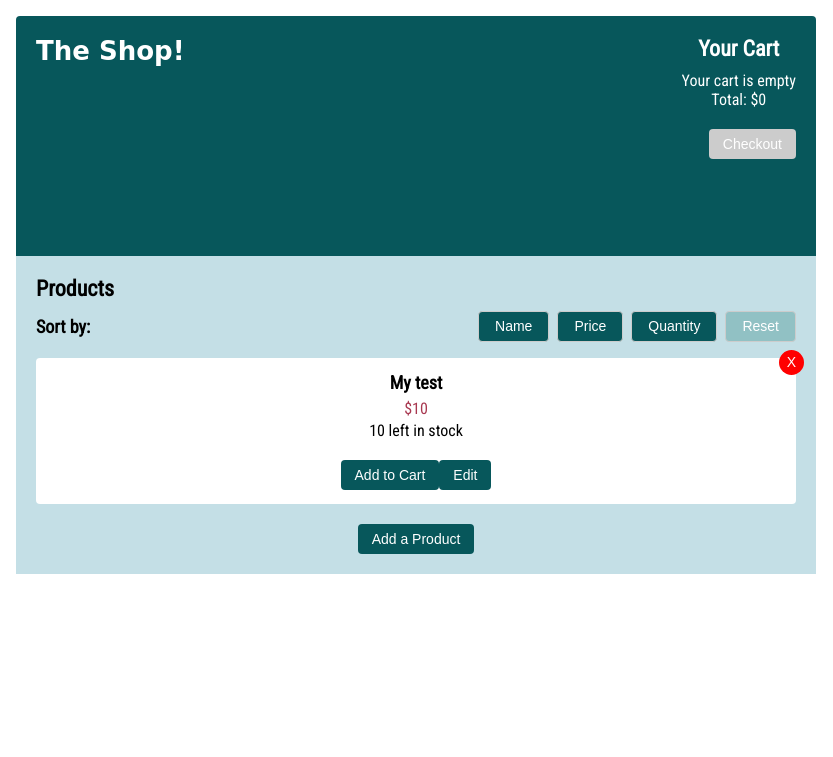
Test: Adding the product closes the form and product appears
Click the button "Add a Product": (416, 539) top-left (358, 524), bottom-right (474, 554)
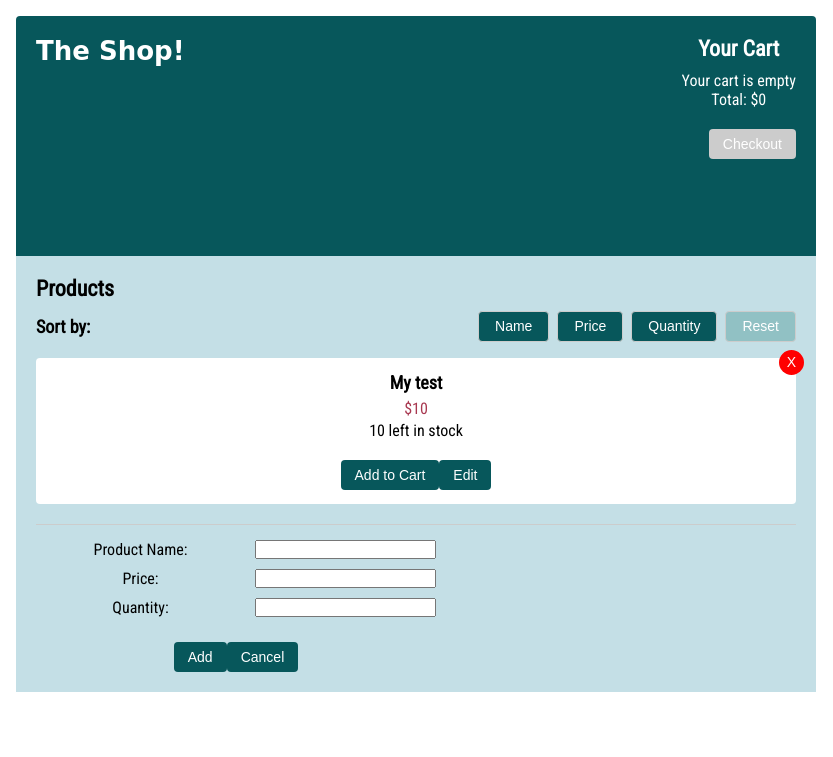
In the field labelled "Product Name:": (346, 549) top-left (255, 540), bottom-right (436, 559), type "My new product test"
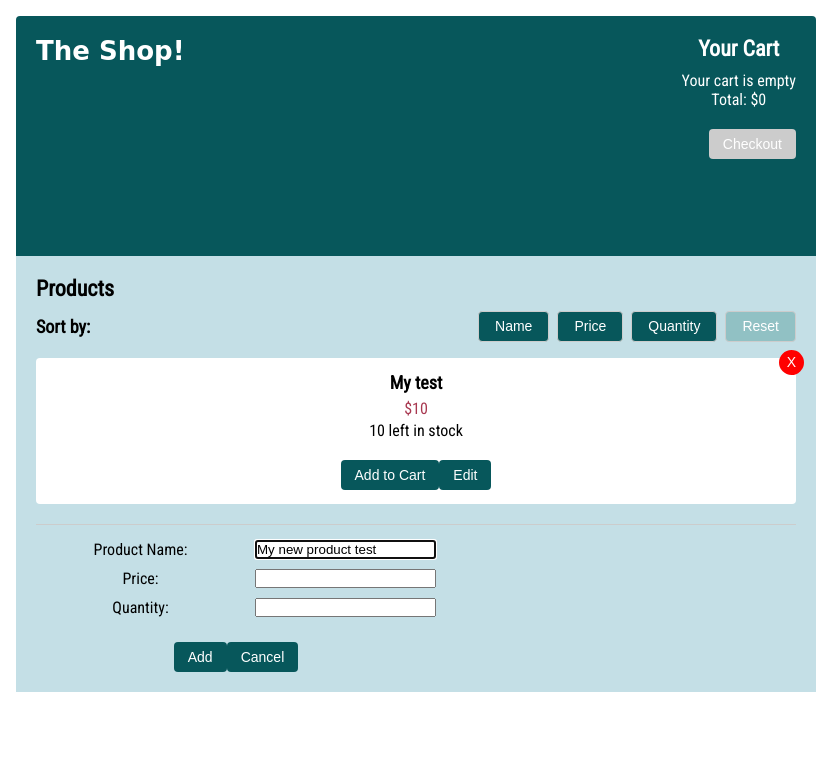
In the number field labelled "Price:": (346, 578) top-left (255, 569), bottom-right (436, 588), type "10.50"
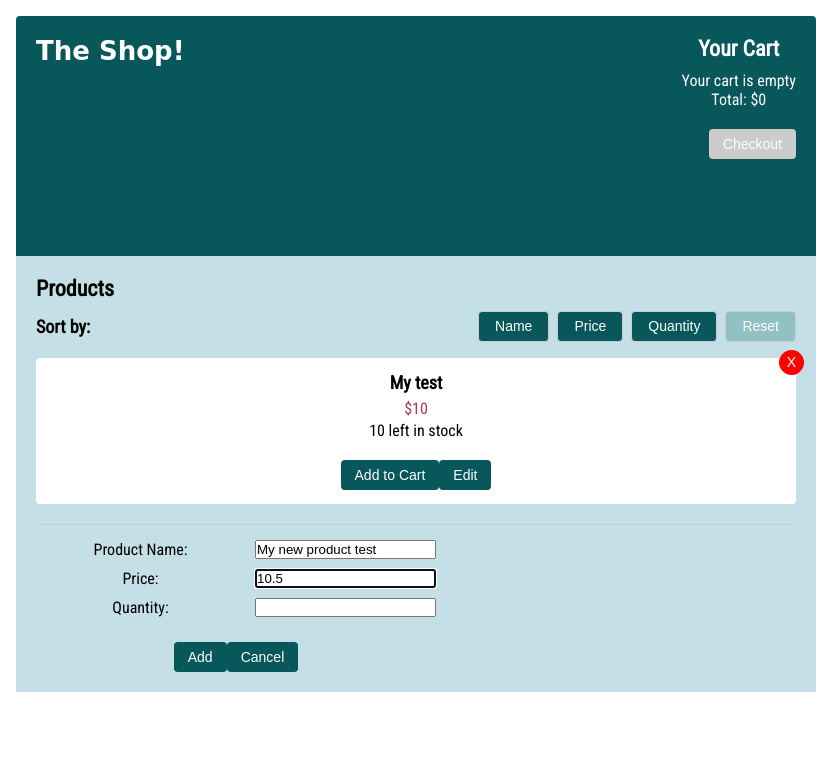
In the number field labelled "Quantity:": (346, 607) top-left (255, 598), bottom-right (436, 617), type "1"
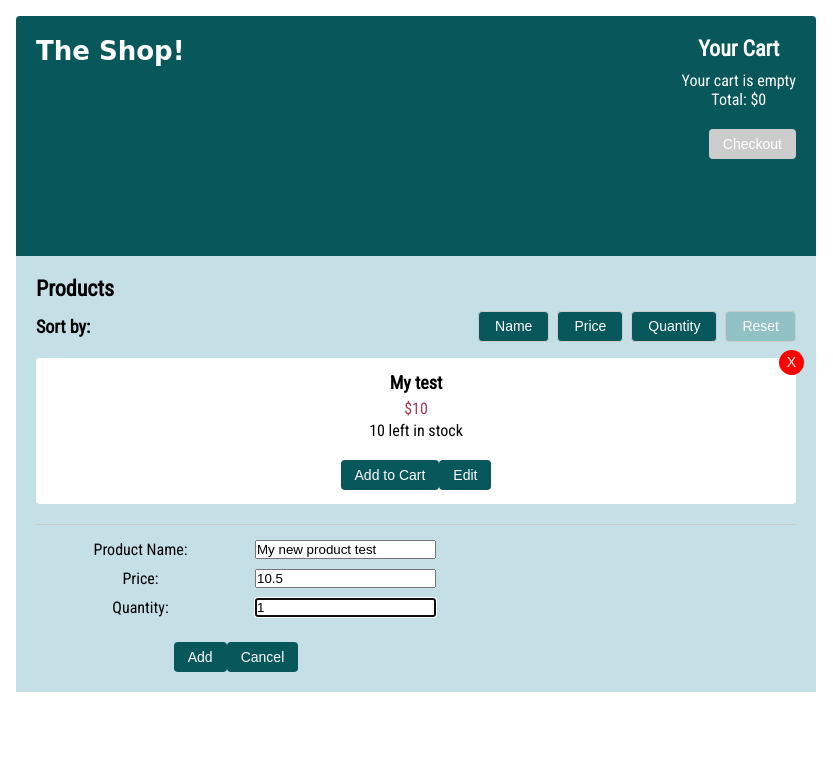
Click the button "Add": (200, 657) top-left (174, 642), bottom-right (227, 672)
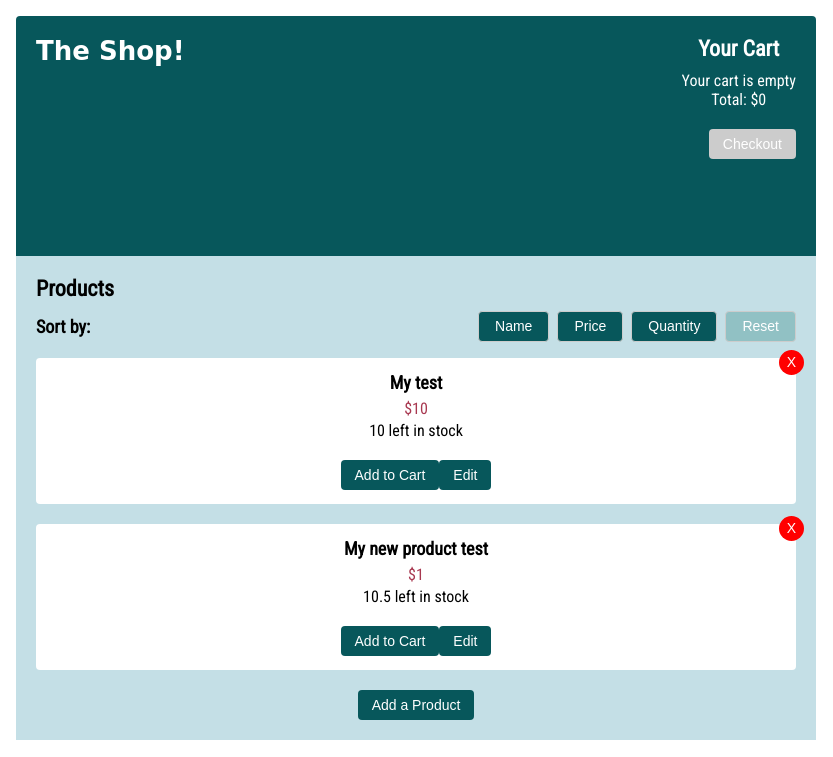
expect the heading "My new product test" is shown: met, box top-left (344, 538), bottom-right (488, 559)
